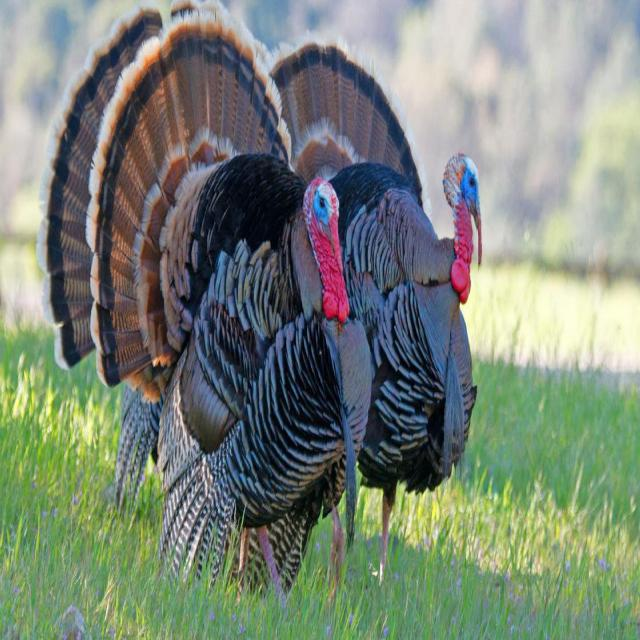Turkey: (76, 17, 375, 602), (265, 19, 484, 542)
